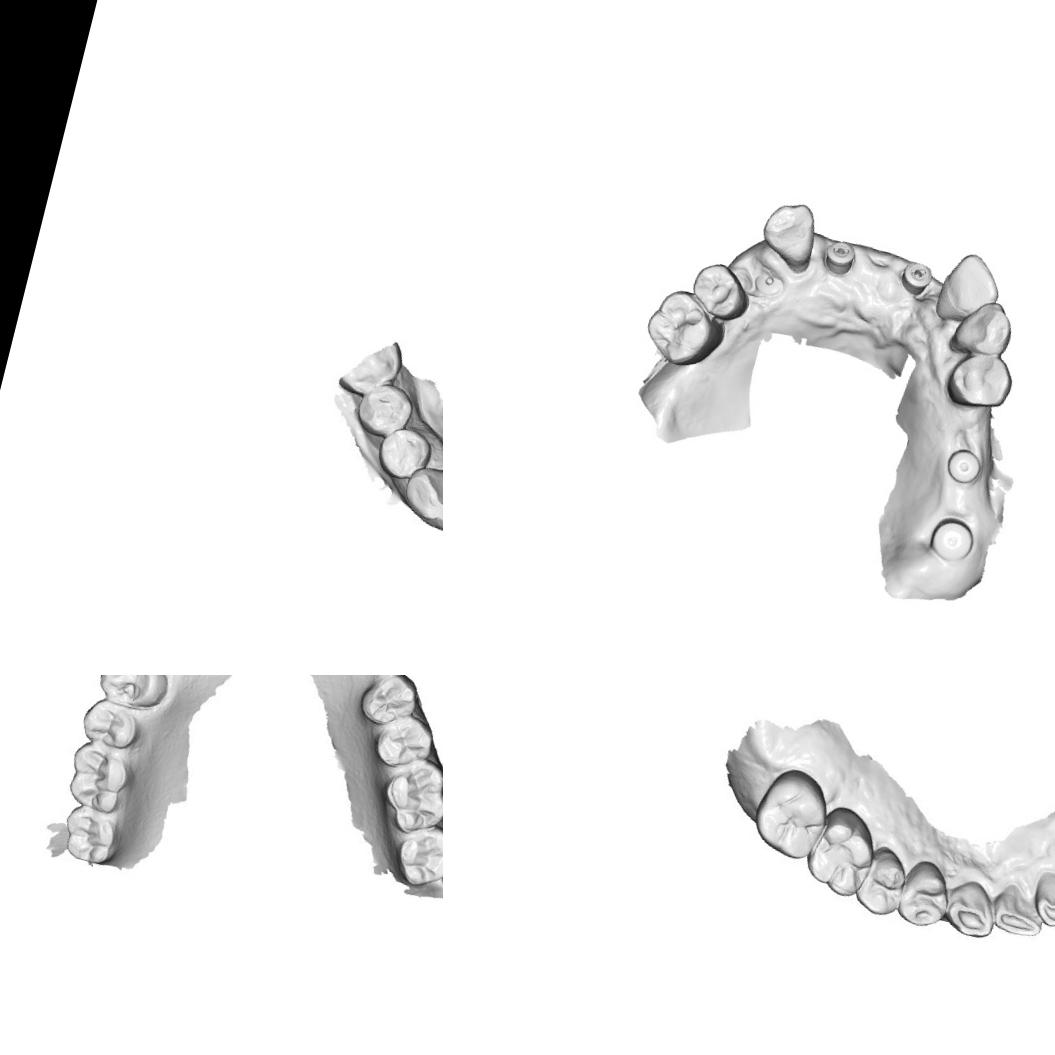canine: (754, 194, 822, 274), (946, 292, 1018, 364), (940, 869, 1000, 942), (404, 461, 443, 517)
implant: (925, 513, 978, 568), (942, 445, 984, 486), (750, 268, 786, 298)
implant_minus: (819, 236, 862, 280), (896, 257, 935, 299)
incisor: (931, 246, 1007, 330), (987, 881, 1048, 938), (1030, 870, 1055, 926)
molar: (638, 282, 732, 374), (750, 764, 838, 860), (803, 806, 882, 896), (59, 736, 137, 817), (373, 754, 443, 840), (55, 800, 128, 871), (387, 820, 443, 893)
premolar: (939, 344, 1018, 416), (366, 707, 438, 777), (684, 257, 755, 325), (72, 691, 143, 756), (352, 374, 415, 444), (854, 849, 910, 927), (896, 858, 954, 929), (355, 675, 427, 732), (372, 423, 433, 486), (93, 675, 173, 715)
